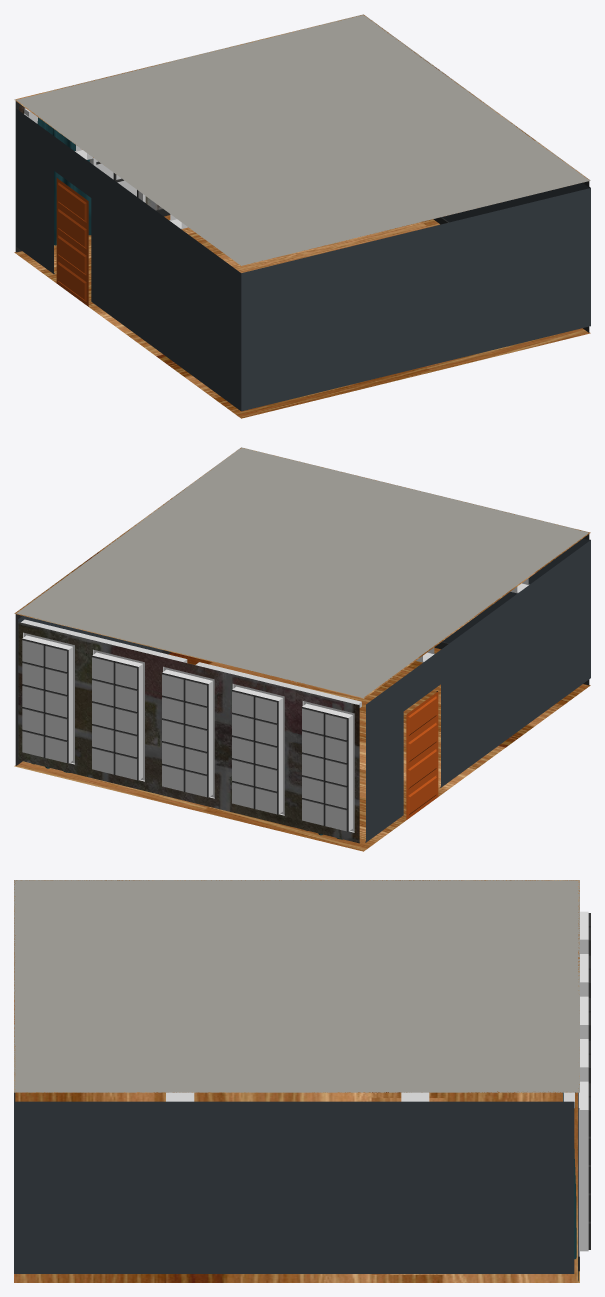
The model's file is VR ROOM [FINAL].fbx.
3 renders of one model, top to bottom at view 1: azimuth 30°, elevation 25°; view 2: azimuth 150°, elevation 25°; view 3: azimuth 270°, elevation 25°, orthographic. The views are drawn at different scales.
Visible parts, largest first — view 1: LoungeRoom_4, Curtains; view 2: LoungeRoom_4, Curtain_Cover.001; view 3: LoungeRoom_4, Ceiling_Beams.
Boxes of the visible parts, x1,y1,x2,y2 form: LoungeRoom_4: [14, 14, 590, 418]; Curtains: [37, 117, 91, 245]; LoungeRoom_4: [14, 447, 590, 851]; Curtain_Cover.001: [21, 619, 361, 707]; LoungeRoom_4: [14, 880, 590, 1282]; Ceiling_Beams: [166, 1092, 429, 1101].
Bounding box in the file's own units: 429 × 178 × 491.
